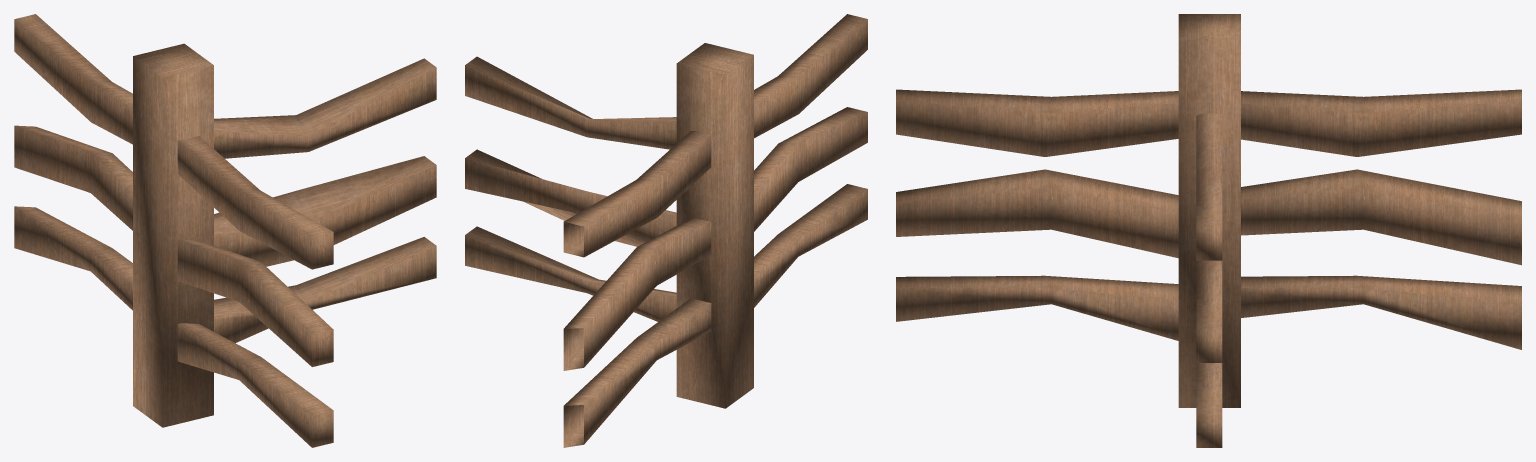
The picture shows the model from 3 angles, left to right: view 1: azimuth 30°, elevation 25°; view 2: azimuth 150°, elevation 25°; view 3: azimuth 270°, elevation 25°; orthographic projection. The views are drawn at different scales.
Visible parts, largest first — view 1: Cube132_Wood_02001_0; view 2: Cube132_Wood_02001_0; view 3: Cube132_Wood_02001_0.
Part boxes in pixels (bbox=[...]): Cube132_Wood_02001_0: bbox=[14, 14, 436, 447]; Cube132_Wood_02001_0: bbox=[465, 14, 867, 447]; Cube132_Wood_02001_0: bbox=[896, 14, 1521, 447].
Bounding box in the file's own units: 1.1 × 1.3 × 2.01.
1 material, 1 textured.
